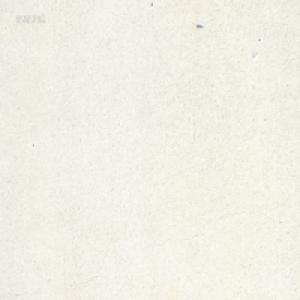Nail: (196, 22, 203, 28)
